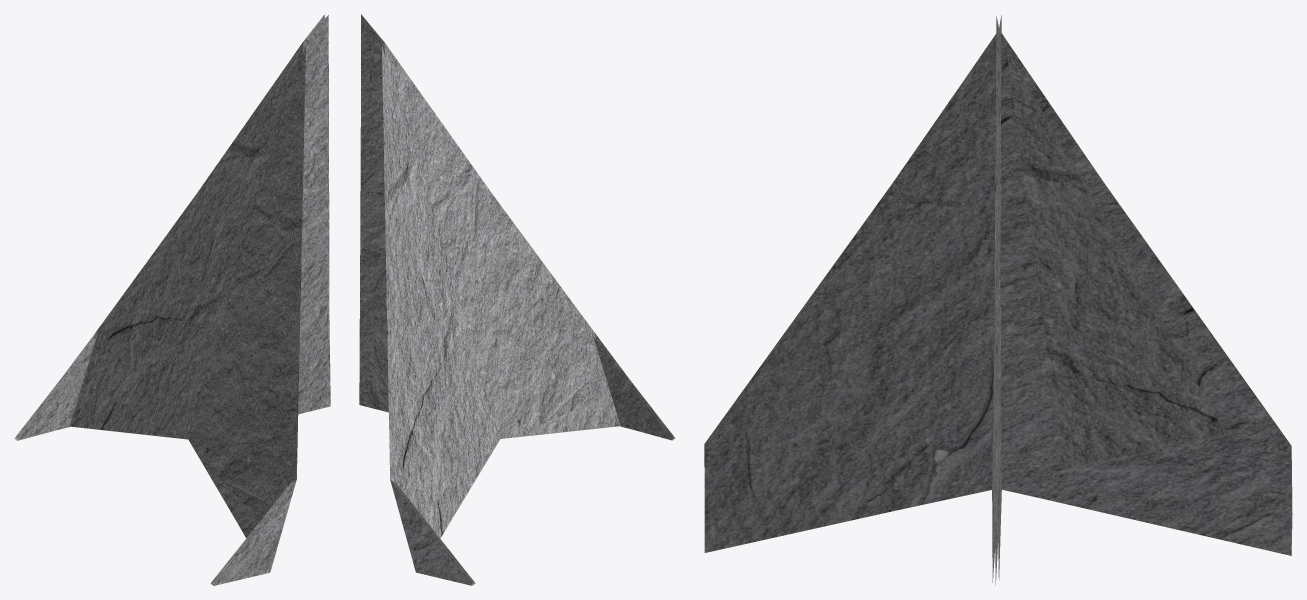
3 renders of one model, left to right at view 1: azimuth 30°, elevation 25°; view 2: azimuth 150°, elevation 25°; view 3: azimuth 270°, elevation 25°, orthographic. The views are drawn at different scales.
Visible parts, largest first — view 1: Origami_Model_72.001; view 2: Origami_Model_72.001; view 3: Origami_Model_72.001.
Boxes of the visible parts, x1,y1,x2,y2 form: Origami_Model_72.001: (14,14,330,585); Origami_Model_72.001: (359,14,675,585); Origami_Model_72.001: (704,15,1292,585).
Bounding box in the file's own units: 0.0578 × 0.1144 × 0.0935.
Materials: 1 (1 with a texture image).
